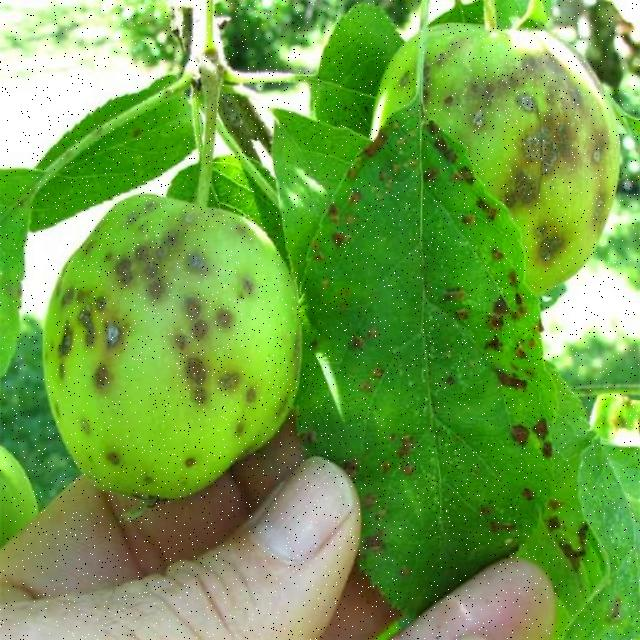SCAB: (41, 172, 318, 532), (384, 10, 622, 332)
